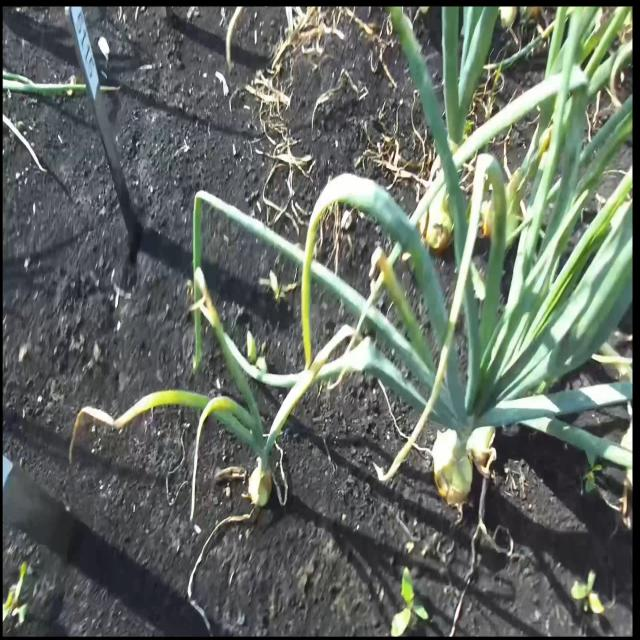onion: (435, 428, 473, 504), (422, 176, 461, 250), (251, 465, 271, 508)
